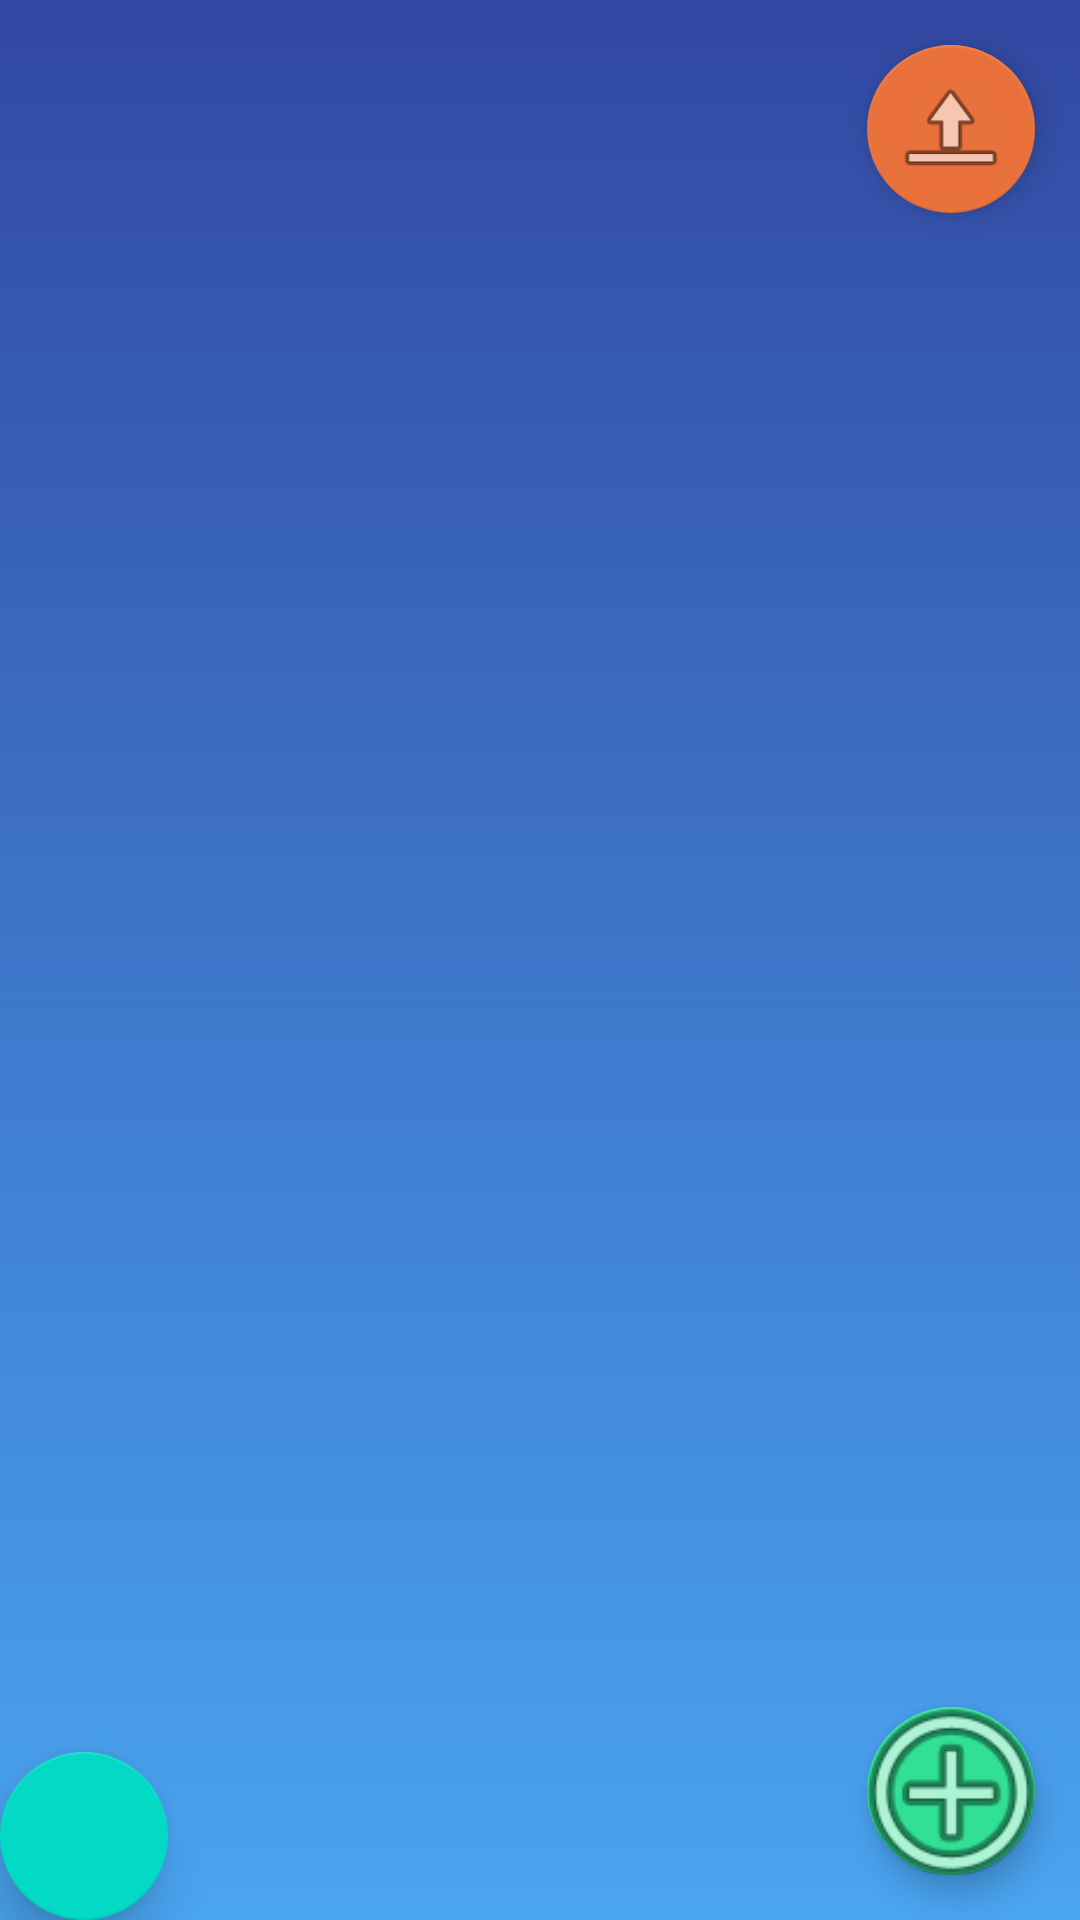

Icon click points for this 1080×1920 phone screenshot, format point (x, y):
add: point (951, 1791)
upload: point (951, 129)
